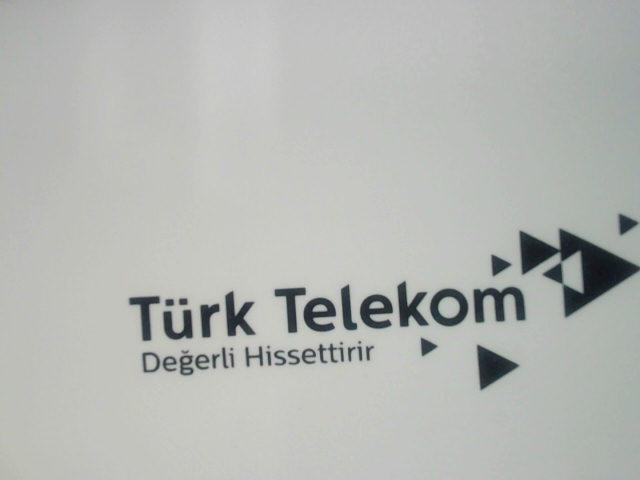AQ_TURKTelekom: (125, 209, 639, 389)
